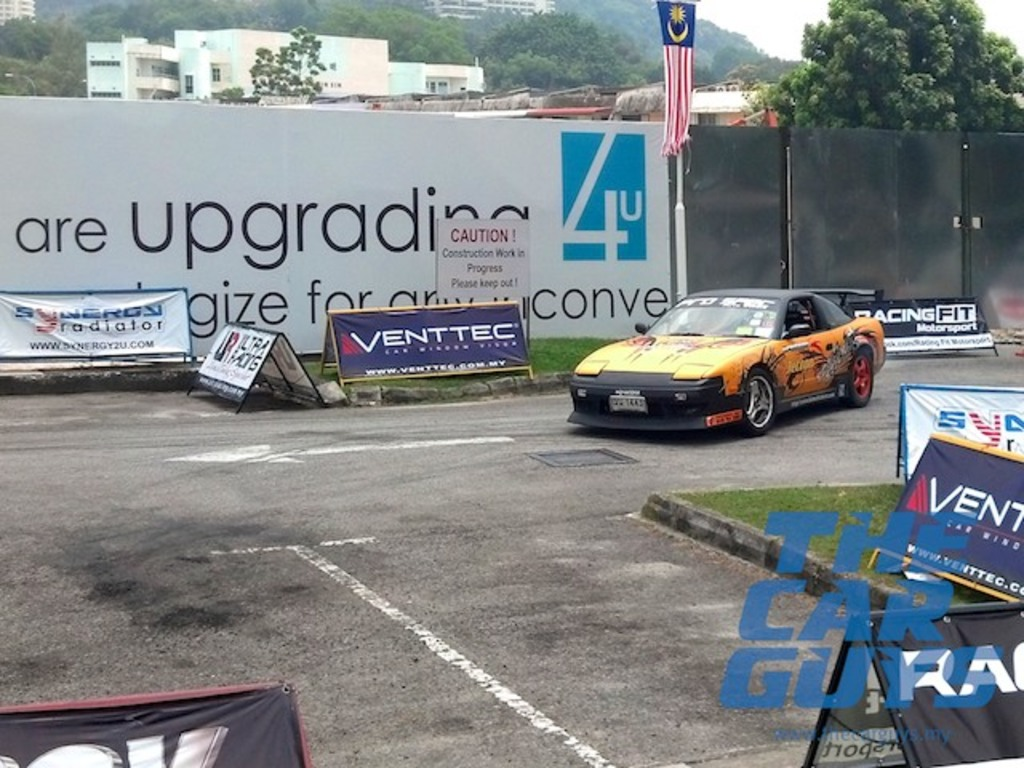Car: (561, 278, 884, 428)
